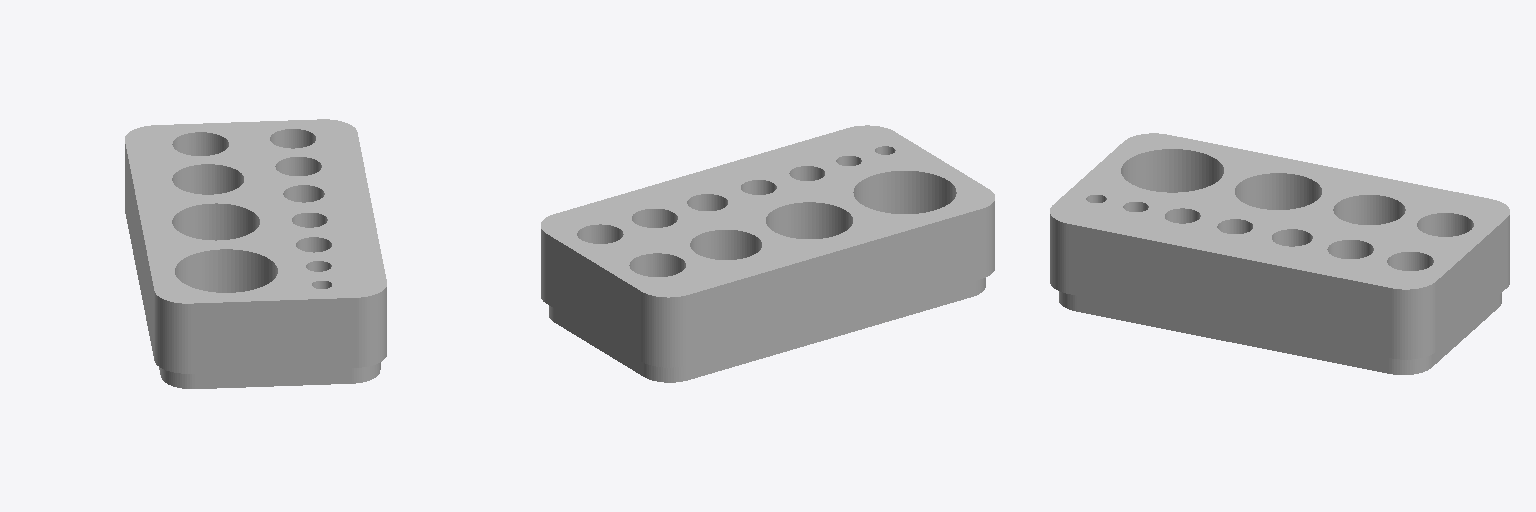
File: Porta.obj
The picture shows the model from 3 angles: view 1: azimuth 30°, elevation 25°; view 2: azimuth 150°, elevation 25°; view 3: azimuth 270°, elevation 25°; orthographic projection.
Parts seen in each view (by area): view 1: pasted__polySurface822; view 2: pasted__polySurface822; view 3: pasted__polySurface822.
Part boxes in pixels (x1,y1,x2,y2): pasted__polySurface822: (125, 119, 386, 388); pasted__polySurface822: (541, 125, 994, 382); pasted__polySurface822: (1050, 133, 1509, 374).
Size of the model in its own units: 5.68 by 1.51 by 7.07.